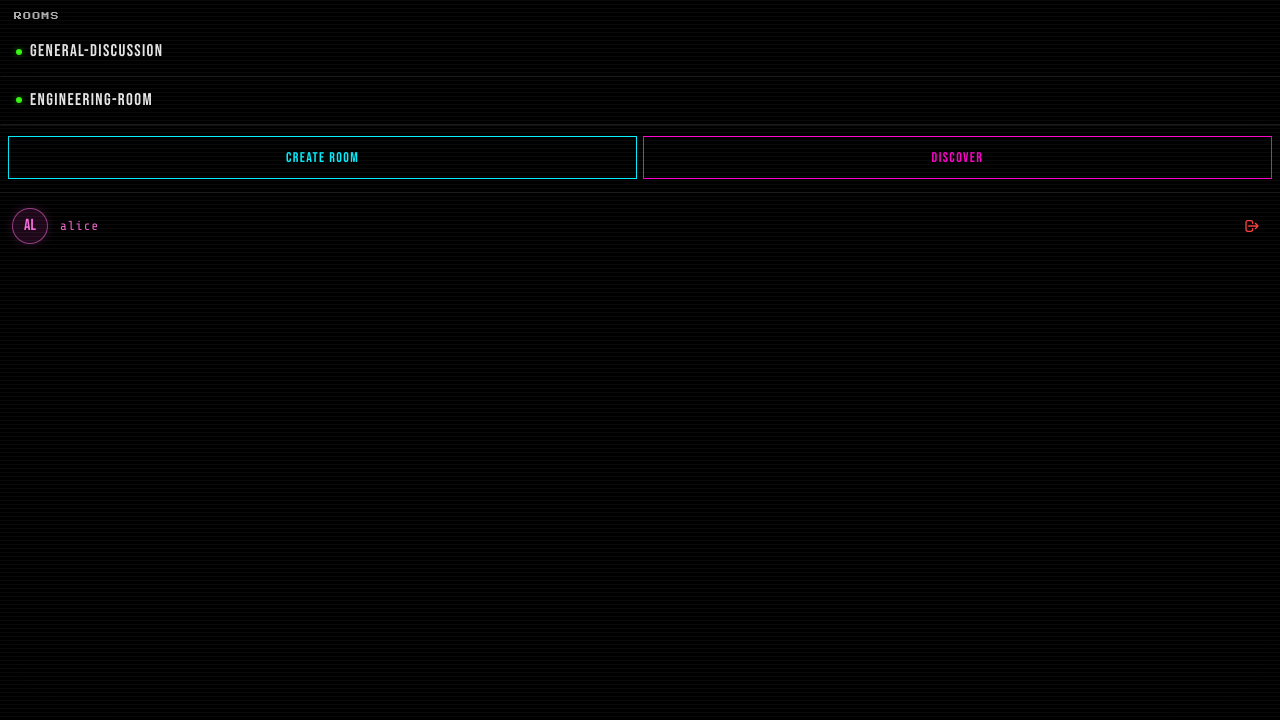
Scenario: RoomList › shows inline create error when room creation fails
expect the text "General-Discussion" is shown: met, box left=30, top=41, right=163, bottom=61
Click the button titled "Create new room": (322, 158) left=8, top=136, right=637, bottom=179
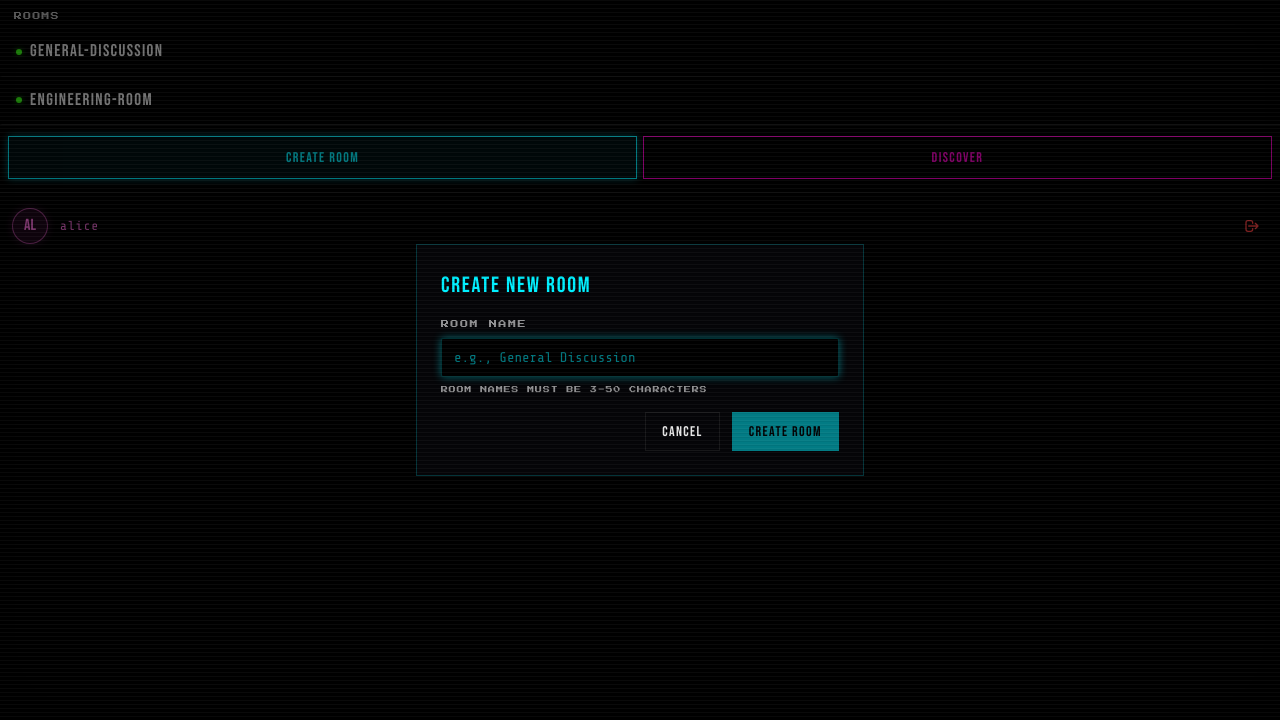
In the field labelled "ROOM NAME": (640, 358) left=441, top=338, right=839, bottom=377, type "Good Name"
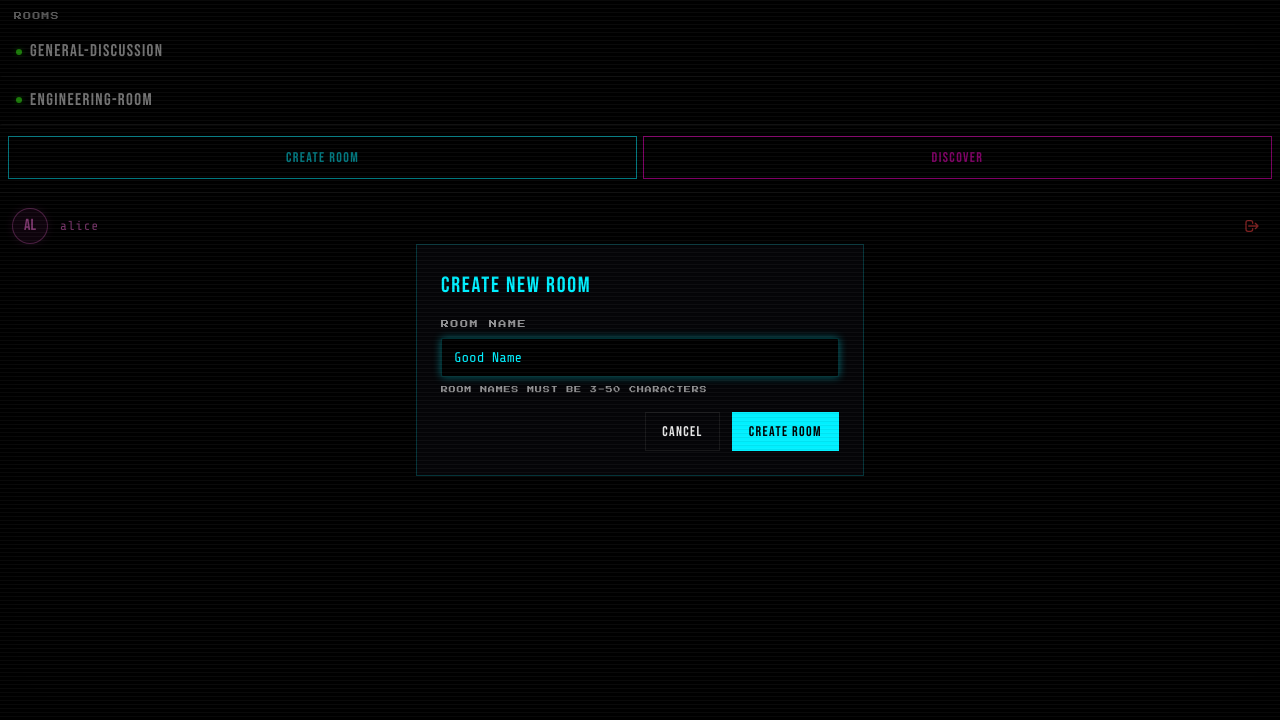
Click the button "CREATE ROOM": (785, 431) left=732, top=412, right=839, bottom=451
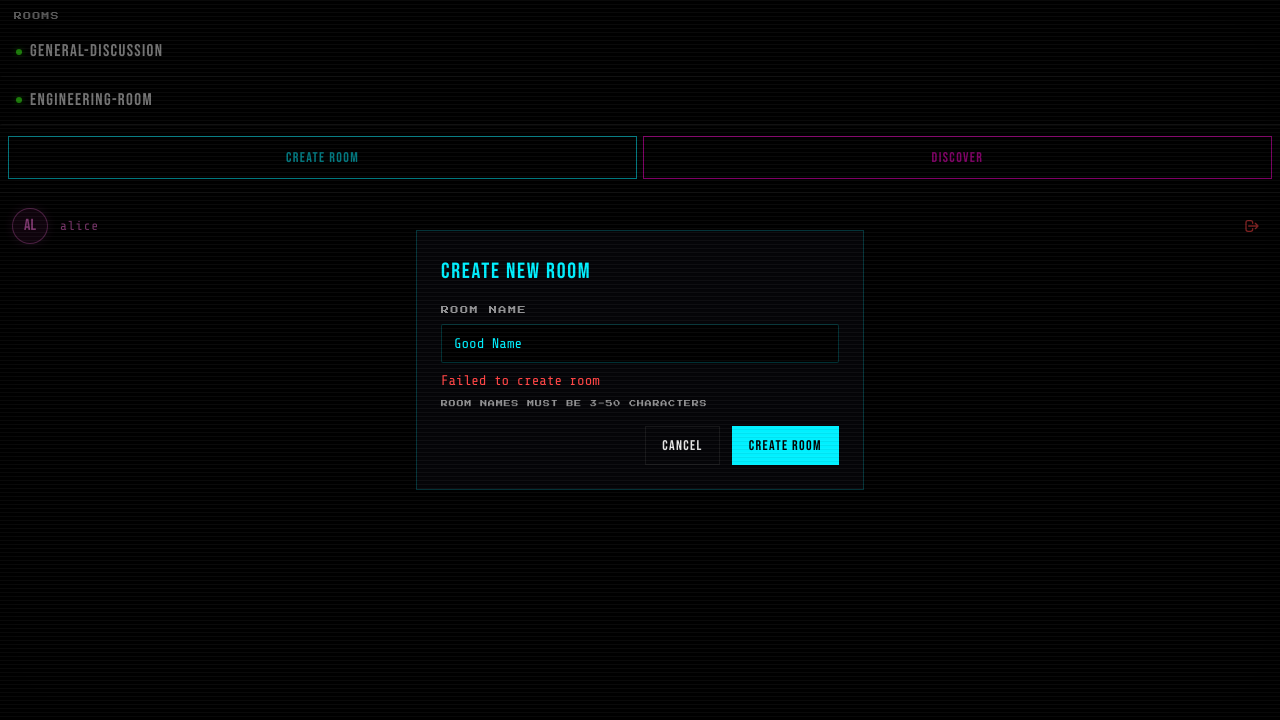
expect the text "Failed to create room" is shown: met, box left=441, top=373, right=600, bottom=388
